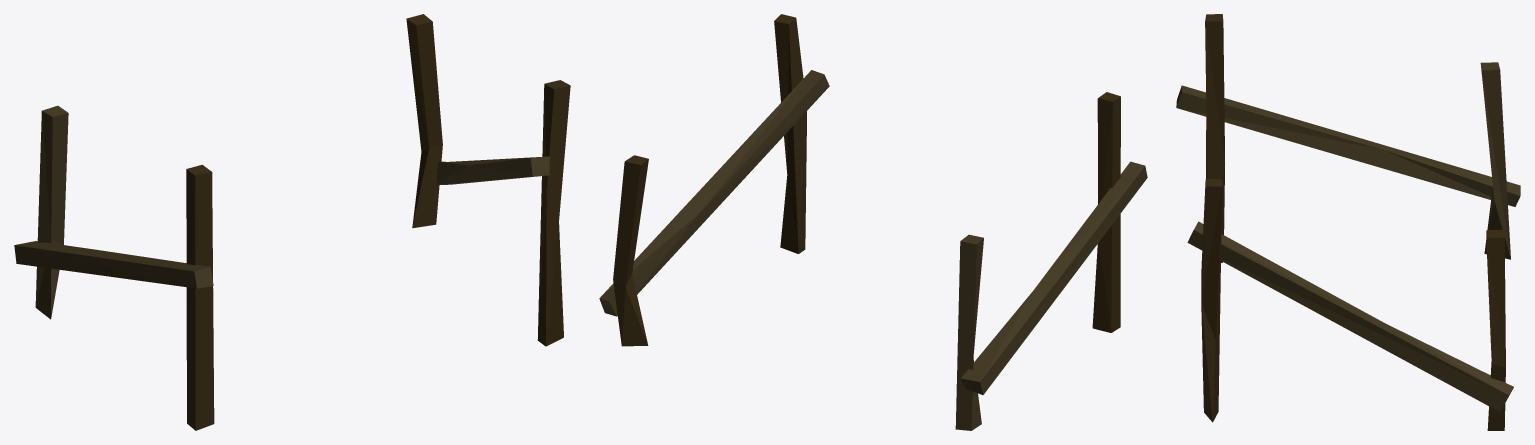
File: WoodenStands.fbx
3 views of the same model, side by side, from view 1: azimuth 30°, elevation 25°; view 2: azimuth 150°, elevation 25°; view 3: azimuth 270°, elevation 25° (orthographic). The views are drawn at different scales.
Parts seen in each view (by area): view 1: Stands; view 2: Stands; view 3: Stands.
Boxes of the visible parts, x1,y1,x2,y2 form: Stands: (14,14,570,430); Stands: (599,14,1147,430); Stands: (1176,14,1520,430).
Size of the model in its own units: 8.79 by 5.02 by 6.55.
